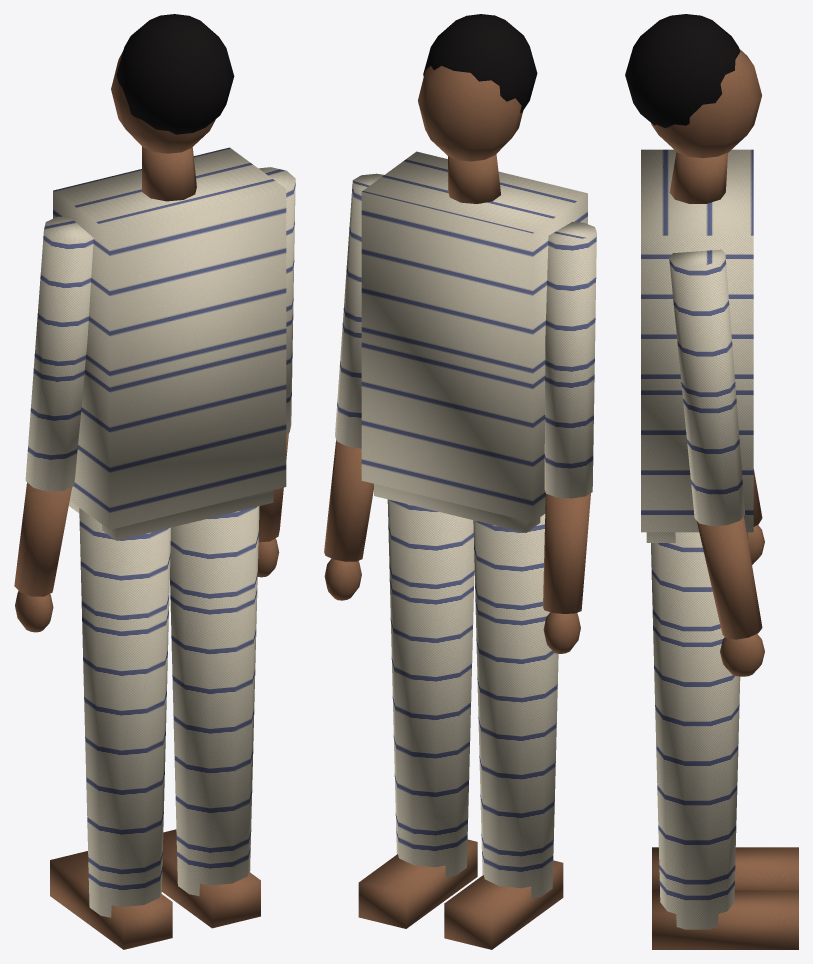
Rendered from persona_pie_a.obj.
3 renders of one model, left to right at view 1: azimuth 30°, elevation 25°; view 2: azimuth 150°, elevation 25°; view 3: azimuth 270°, elevation 25°, orthographic. The views are drawn at different scales.
Parts seen in each view (by area): view 1: persona_pie_a; view 2: persona_pie_a; view 3: persona_pie_a.
Part boxes in pixels (box(x1,y1,x2,y2)): persona_pie_a: box(14, 14, 295, 949); persona_pie_a: box(324, 14, 596, 949); persona_pie_a: box(625, 14, 798, 949).
Size of the model in its own units: 0.5284 by 1.76 by 0.308.
3 materials, 3 textured.
